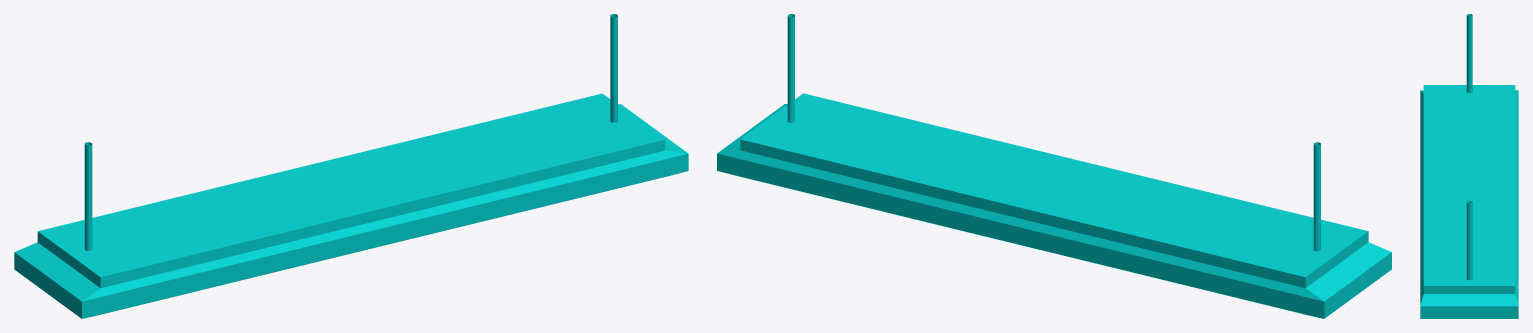
File: LightFitting.fbx
3 renders of one model, left to right at view 1: azimuth 30°, elevation 25°; view 2: azimuth 150°, elevation 25°; view 3: azimuth 270°, elevation 25°, orthographic. The views are drawn at different scales.
Visible parts, largest first — view 1: LightFitting; view 2: LightFitting; view 3: LightFitting.
Part boxes in pixels (box(x1,y1,x2,y2)): LightFitting: box(14, 14, 688, 318); LightFitting: box(717, 14, 1391, 318); LightFitting: box(1420, 14, 1518, 318).
Size of the model in its own units: 185 by 43.01 by 35.69.
